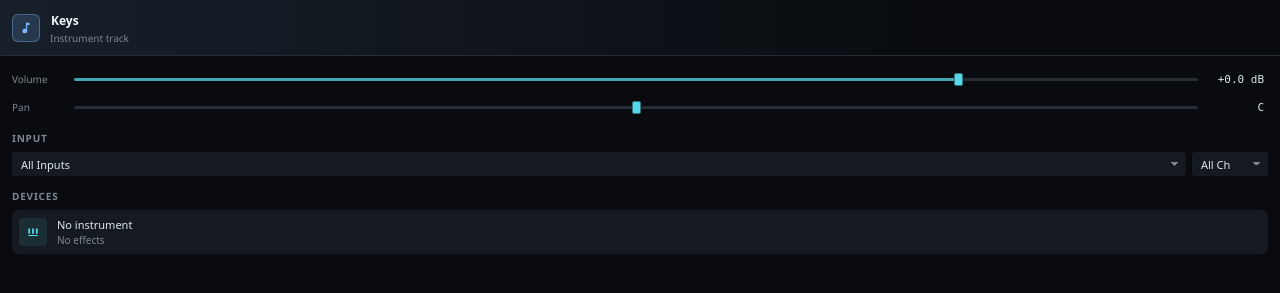
Scenario: Arrange Inspectors › surfaces Track operation failures in the Inspector status
Select "Ch 1" in the dropdown named "MIDI channel": (1230, 164) [1192,152,1268,176]
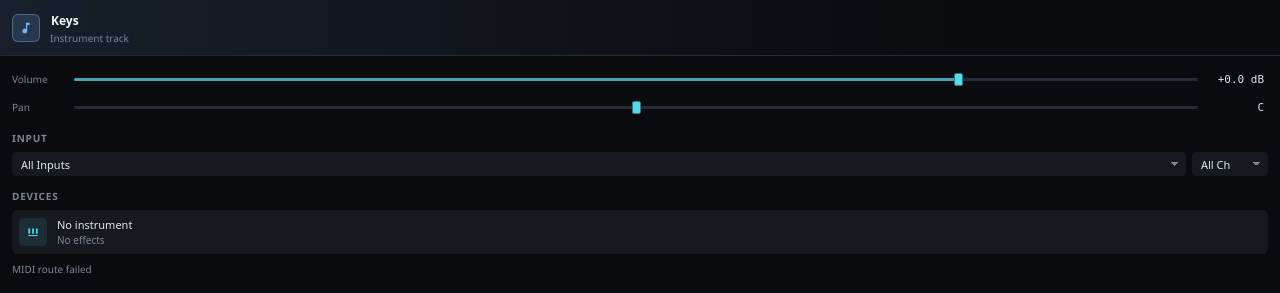
Check: the message reads "MIDI route failed", box [12,262,92,276]
